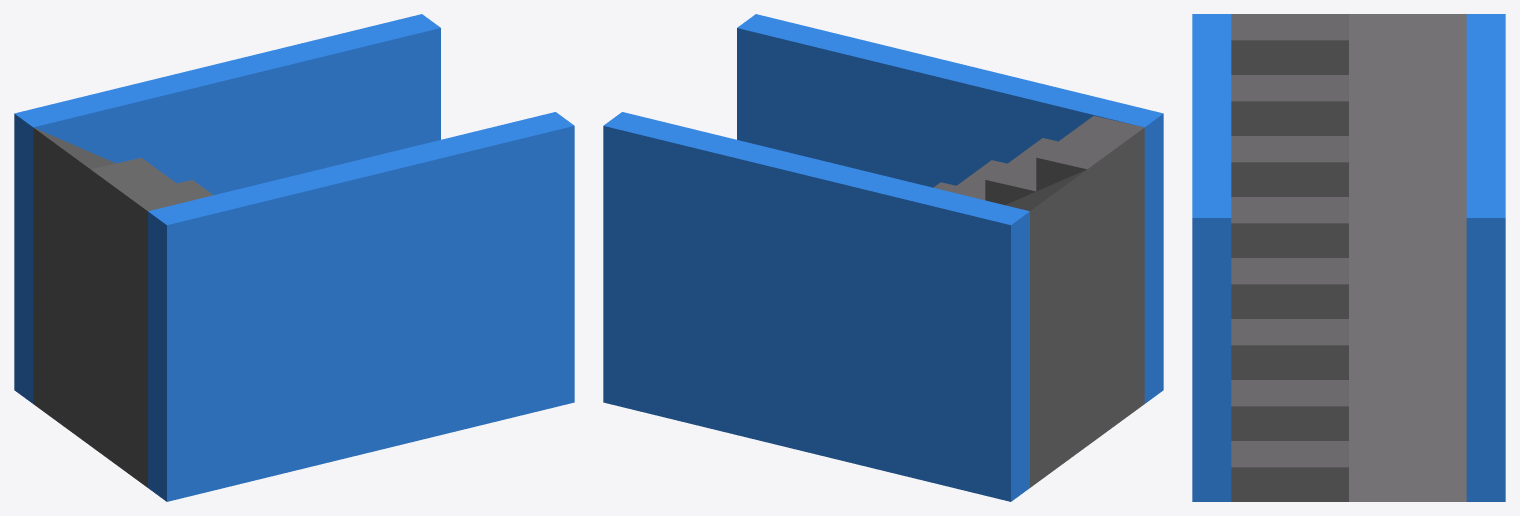
Rendered from Ramp.fbx.
The picture shows the model from 3 angles, left to right: view 1: azimuth 30°, elevation 25°; view 2: azimuth 150°, elevation 25°; view 3: azimuth 270°, elevation 25°; orthographic projection. The views are drawn at different scales.
Visible parts, largest first — view 1: Cube.001; view 2: Cube.001; view 3: Cube.001.
Boxes of the visible parts, bbox=[...] form: Cube.001: bbox=[14, 14, 574, 501]; Cube.001: bbox=[603, 14, 1163, 501]; Cube.001: bbox=[1192, 14, 1505, 501].
Bounding box in the file's own units: 619 × 402 × 402.
